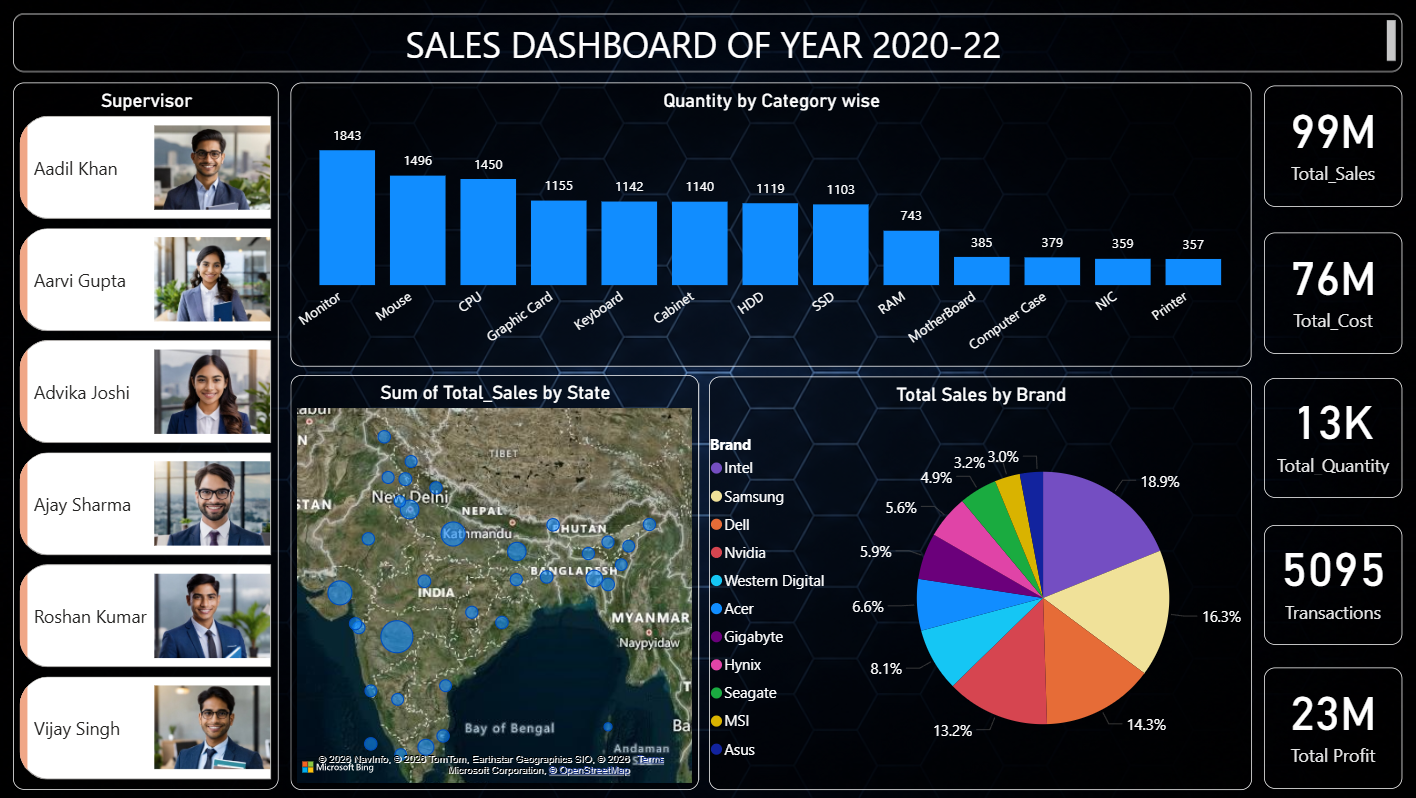

The dashboard page shown, as its layout file describes it:
{"tool":"powerbi","page":{"name":"Sales_Dashboard","canvas":[1280,720],"ordinal":0},"visuals":[{"type":"textbox","box":[13.6,12.1,1252.2,53],"z":0},{"type":"card","fields":{"Values":["Sum(Sales_Data.Total_Sales)"]},"box":[1140.8,77,124.4,109.5],"z":1000},{"type":"card","fields":{"Values":["Sum(Sales_Data.Total_Cost)"]},"box":[1140.8,209.5,124.4,109.5],"z":2000},{"type":"card","fields":{"Values":["Sum(Sales_Data.Quantity)"]},"box":[1140.8,340.6,124.4,108.1],"z":3000},{"type":"card","fields":{"Values":["CountNonNull(Sales_Data.Order_Number)"]},"box":[1140.8,473.1,124.4,108.1],"z":4000},{"type":"card","fields":{"Values":["Sales_Data.Total Profit"]},"box":[1140.8,601.5,124.4,109.5],"z":5000},{"type":"columnChart","title":"Quantity by Category wise","fields":{"Category":["Sales_Data.Category"],"Y":["Sum(Sales_Data.Quantity)"]},"box":[263.5,74.2,866.1,255.9],"z":6000},{"type":"pieChart","title":"Total Sales by Brand","fields":{"Category":["Sales_Data.Brand"],"Y":["Sum(Sales_Data.Total_Sales)"]},"box":[640.5,339.2,489.1,372.5],"z":7000},{"type":"map","fields":{"Category":["State_list.State"],"Size":["Sum(Sales_Data.Total_Sales)"]},"box":[263.5,337.7,368,374],"z":8000},{"type":"advancedSlicerVisual","fields":{"Values":["Supervisor.Supervisor"]},"box":[13.6,74.2,239.2,637.5],"z":9000}]}

Visuals, with their boxes in screenshot pixels (x1, y1, x2, y2), scaled from the page's 1280x720 canvas onto the 1416x798 screenshot:
textbox: [15, 13, 1400, 72]
card - Sum(Sales_Data.Total_Sales): [1262, 85, 1400, 207]
card - Sum(Sales_Data.Total_Cost): [1262, 232, 1400, 354]
card - Sum(Sales_Data.Quantity): [1262, 377, 1400, 497]
card - CountNonNull(Sales_Data.Order_Number): [1262, 524, 1400, 644]
card - Sales_Data.Total Profit: [1262, 667, 1400, 788]
"Quantity by Category wise" columnChart: [291, 82, 1250, 366]
"Total Sales by Brand" pieChart: [709, 376, 1250, 789]
map - State_list.State x Sum(Sales_Data.Total_Sales): [291, 374, 699, 789]
advancedSlicerVisual - Supervisor.Supervisor: [15, 82, 280, 789]
